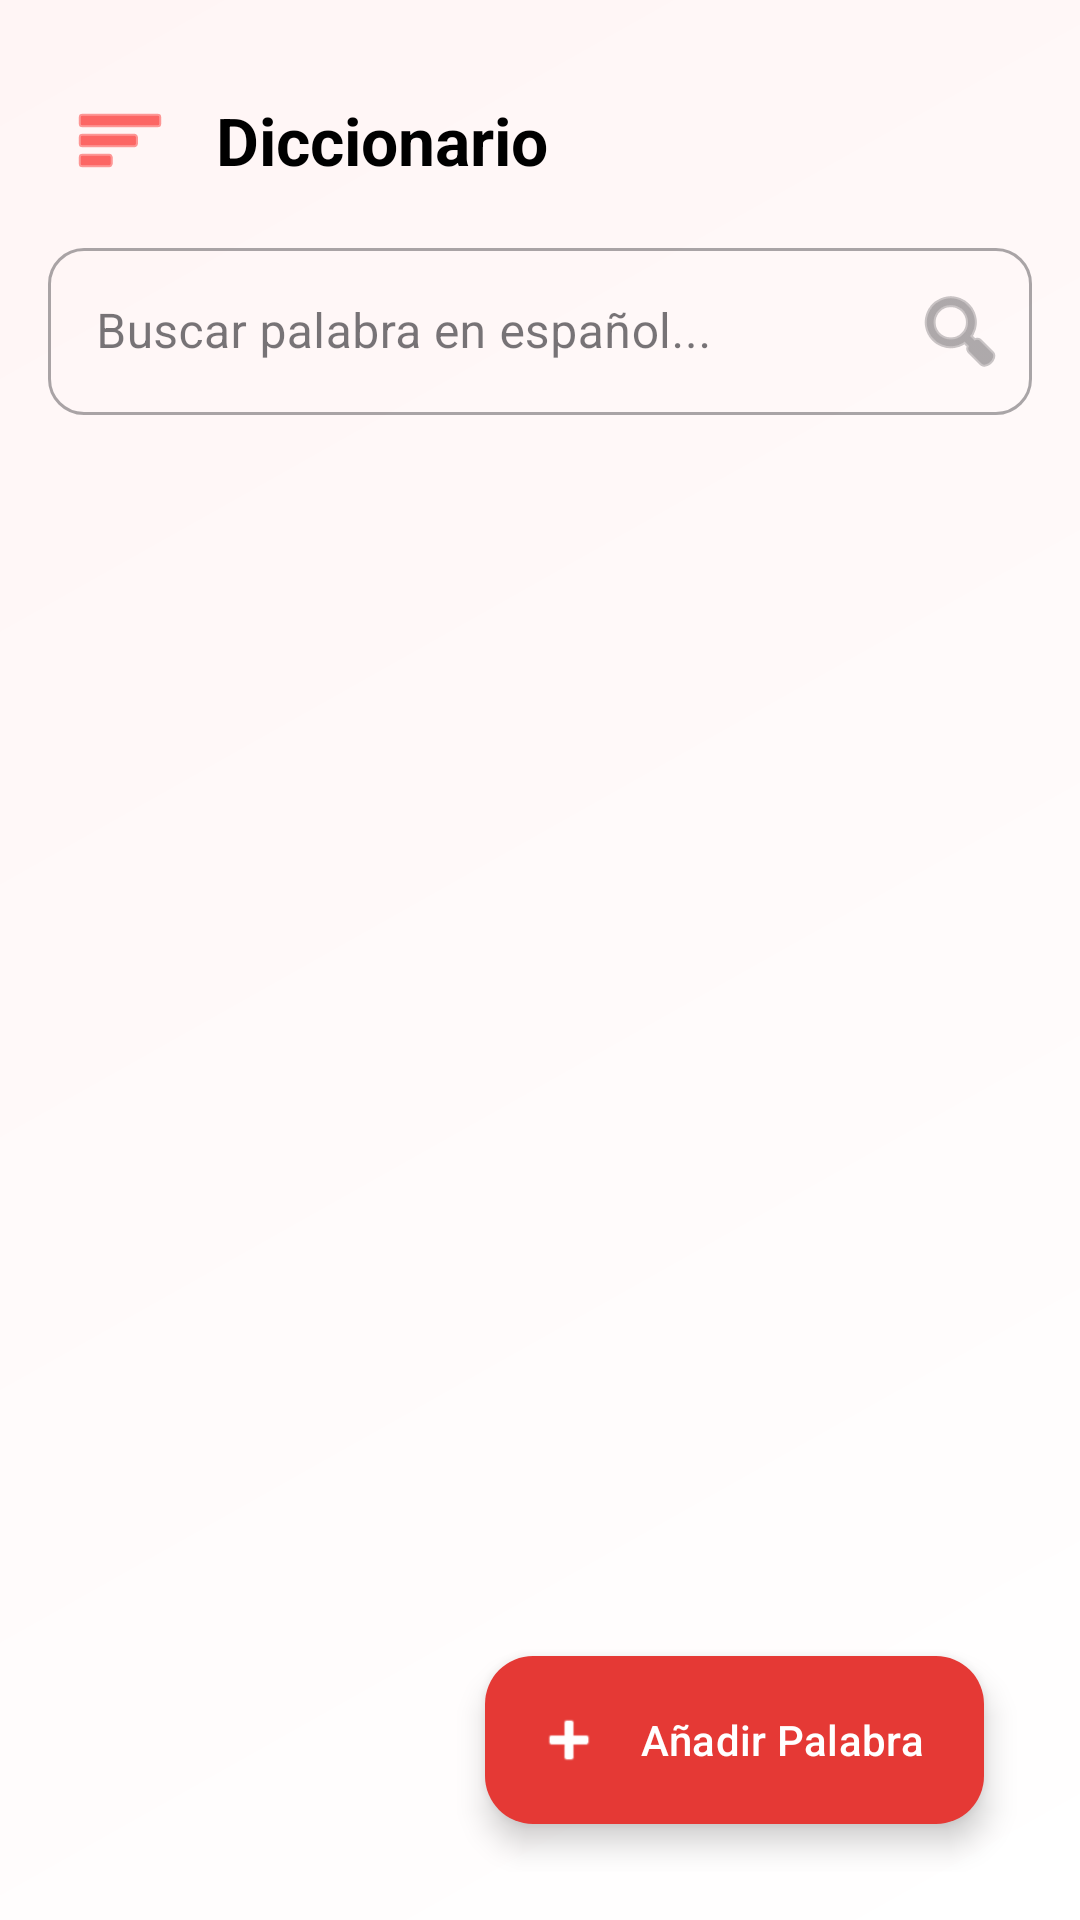

Screen size 1080px×1920px. Icon name, then its center in pixels as point (x, y):
Menu de categorías: point (120, 140)
